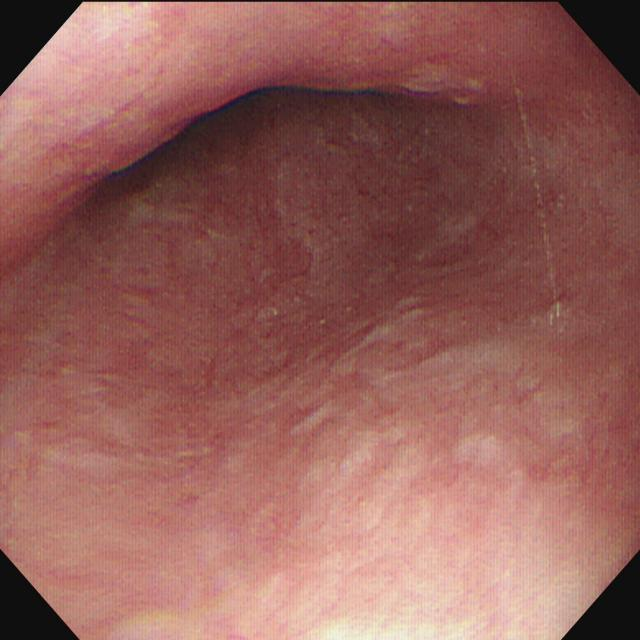E: (67, 61, 487, 234)
J: (222, 241, 571, 558)
